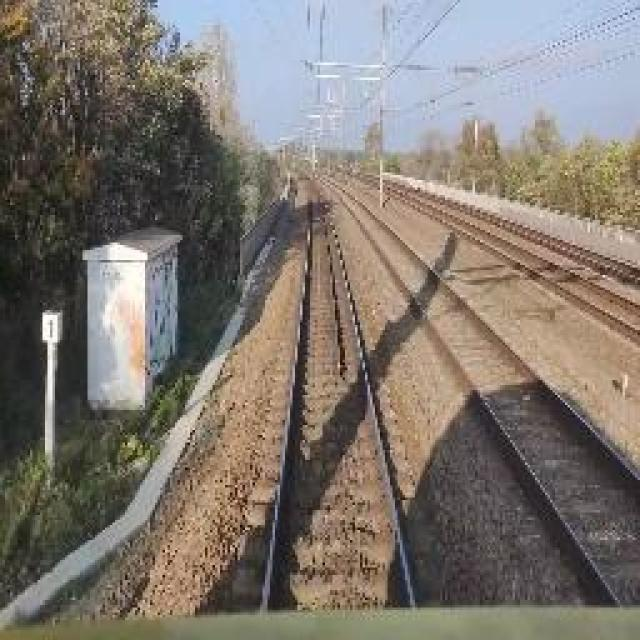rail: (224, 171, 446, 616)
